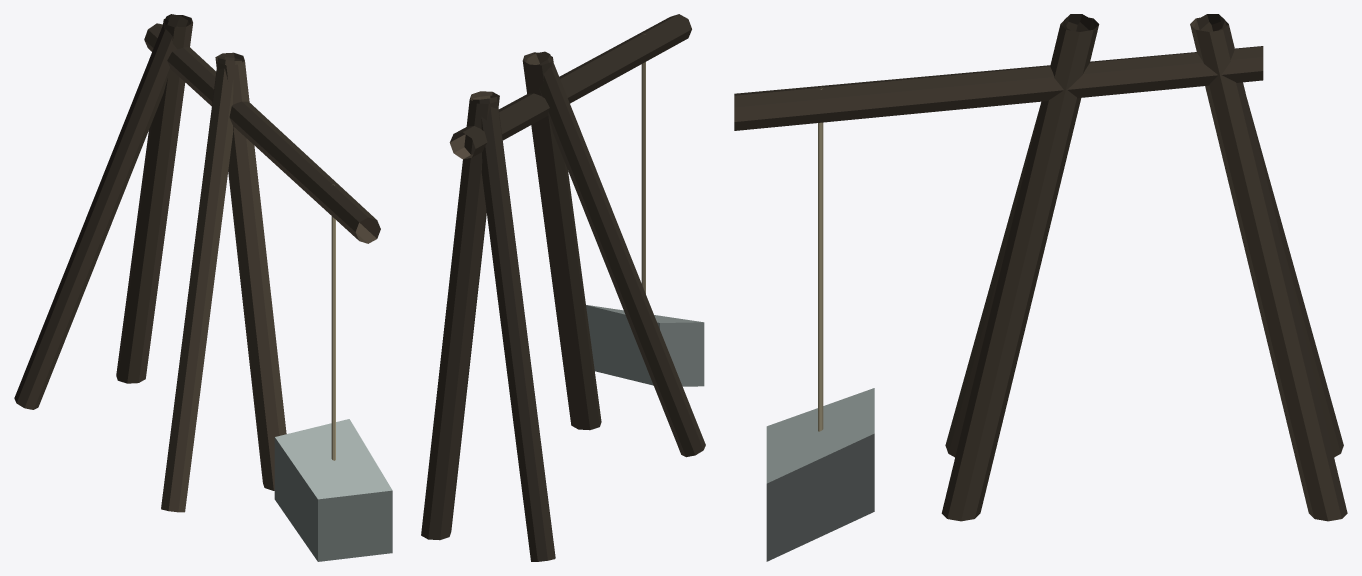
The picture shows the model from 3 angles, left to right: view 1: azimuth 30°, elevation 25°; view 2: azimuth 150°, elevation 25°; view 3: azimuth 270°, elevation 25°; orthographic projection. The views are drawn at different scales.
Visible parts, largest first — view 1: 597419484193bb79fd65d1eca45ba8b2f589ef3c2e1dc77e7d5fbd655bd2; view 2: 597419484193bb79fd65d1eca45ba8b2f589ef3c2e1dc77e7d5fbd655bd2; view 3: 597419484193bb79fd65d1eca45ba8b2f589ef3c2e1dc77e7d5fbd655bd2.
Boxes of the visible parts, left/top/right/bottom form: 597419484193bb79fd65d1eca45ba8b2f589ef3c2e1dc77e7d5fbd655bd2: left=14, top=14, right=392, bottom=561; 597419484193bb79fd65d1eca45ba8b2f589ef3c2e1dc77e7d5fbd655bd2: left=421, top=14, right=705, bottom=561; 597419484193bb79fd65d1eca45ba8b2f589ef3c2e1dc77e7d5fbd655bd2: left=734, top=14, right=1347, bottom=561.
Size of the model in its own units: 2.04 by 5.31 by 5.68.
Materials: 3 (1 with a texture image).
